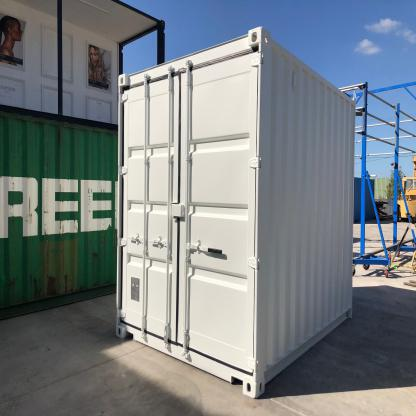Damage: (26, 238, 72, 298), (335, 246, 350, 316), (87, 228, 109, 265), (4, 256, 17, 296)
